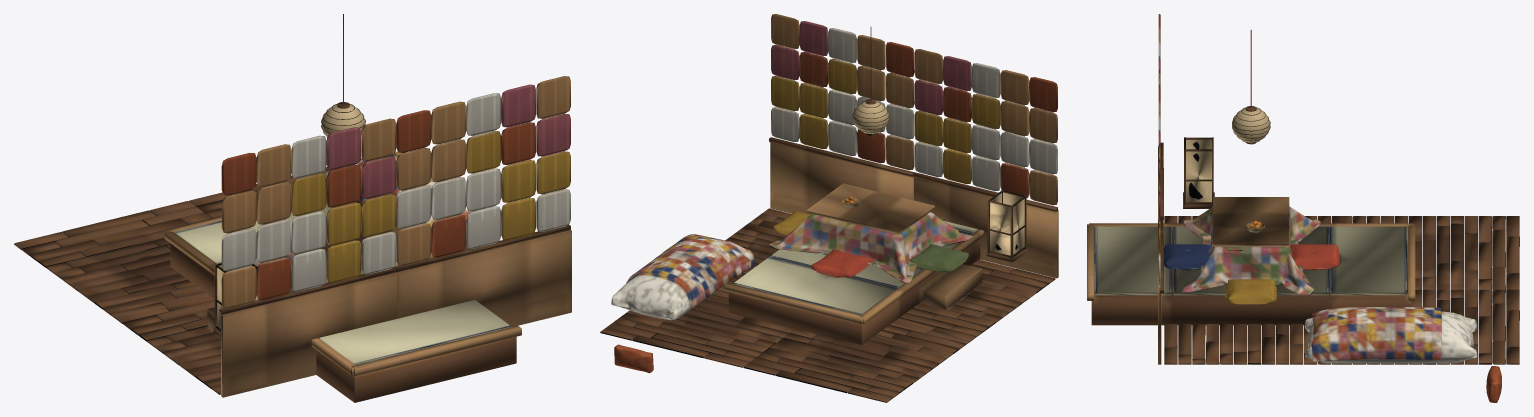
Rendered from kotatsu_room.glb.
3 renders of one model, left to right at view 1: azimuth 30°, elevation 25°; view 2: azimuth 150°, elevation 25°; view 3: azimuth 270°, elevation 25°, orthographic. The views are drawn at different scales.
Visible parts, largest first — view 1: prop_kotatsu_room_felt, prop_kotatsu_room_wood, prop_kotatsu_room_paper; view 2: prop_kotatsu_room_felt, prop_kotatsu_room_wood, prop_kotatsu_room_paper; view 3: prop_kotatsu_room_wood, prop_kotatsu_room_felt, prop_kotatsu_room_paper.
Boxes of the visible parts, bbox=[...] form: prop_kotatsu_room_felt: bbox=[175, 14, 570, 365]; prop_kotatsu_room_wood: bbox=[14, 102, 571, 402]; prop_kotatsu_room_paper: bbox=[217, 104, 365, 328]; prop_kotatsu_room_felt: bbox=[611, 14, 1057, 373]; prop_kotatsu_room_wood: bbox=[600, 99, 1058, 402]; prop_kotatsu_room_paper: bbox=[853, 101, 1024, 255]; prop_kotatsu_room_wood: bbox=[1087, 106, 1519, 364]; prop_kotatsu_room_felt: bbox=[1094, 14, 1501, 402]; prop_kotatsu_room_paper: bbox=[1186, 108, 1270, 202].
Bounding box in the file's own units: 8.39 × 7.65 × 9.91.
Materials: 4 (4 with a texture image).
